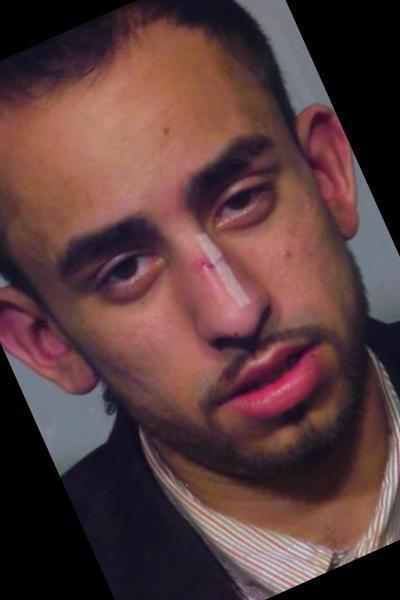Drunk: (49, 63, 356, 464)
